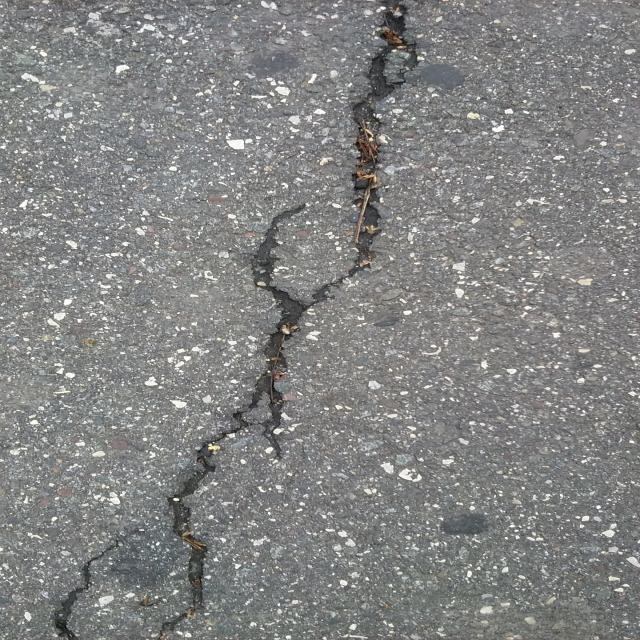Longitudial: (57, 0, 485, 640)
